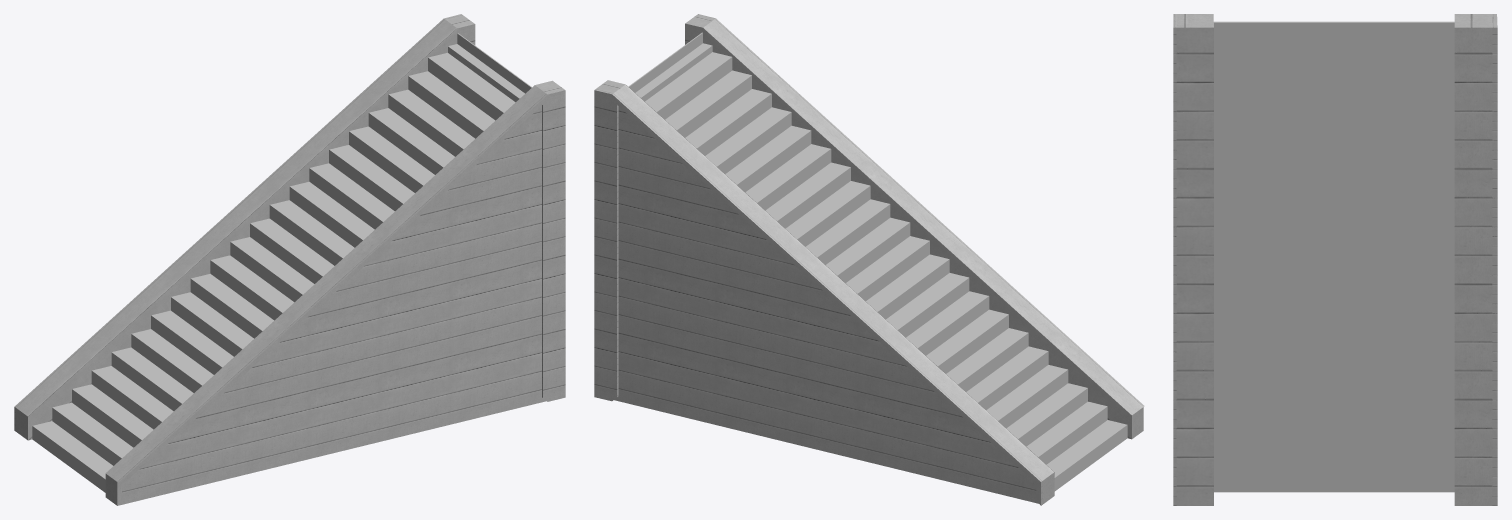
File: RiverStair_B_01.fbx
The picture shows the model from 3 angles, left to right: view 1: azimuth 30°, elevation 25°; view 2: azimuth 150°, elevation 25°; view 3: azimuth 270°, elevation 25°; orthographic projection. The views are drawn at different scales.
Visible parts, largest first — view 1: RiverStair_B_01; view 2: RiverStair_B_01; view 3: RiverStair_B_01.
Part boxes in pixels (x1,y1,x2,y2): RiverStair_B_01: (14, 14, 565, 505); RiverStair_B_01: (594, 14, 1144, 505); RiverStair_B_01: (1173, 14, 1497, 505).
Bounding box in the file's own units: 1894 × 1244 × 764.
